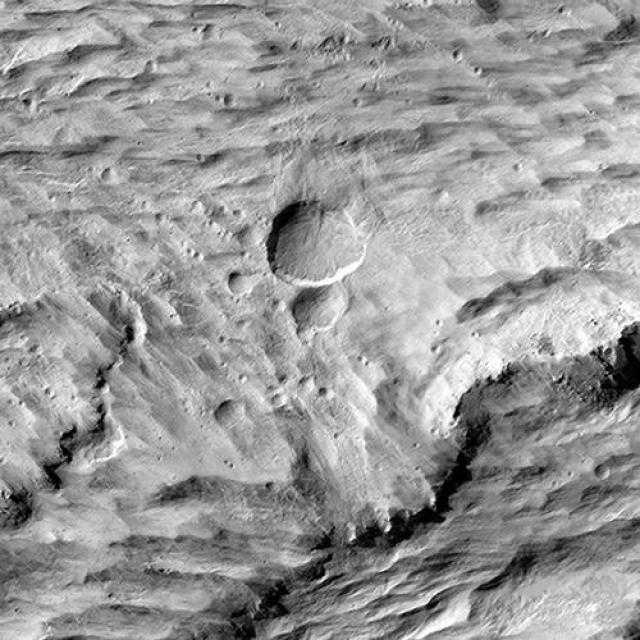crater: (255, 180, 378, 300), (287, 272, 358, 350)
